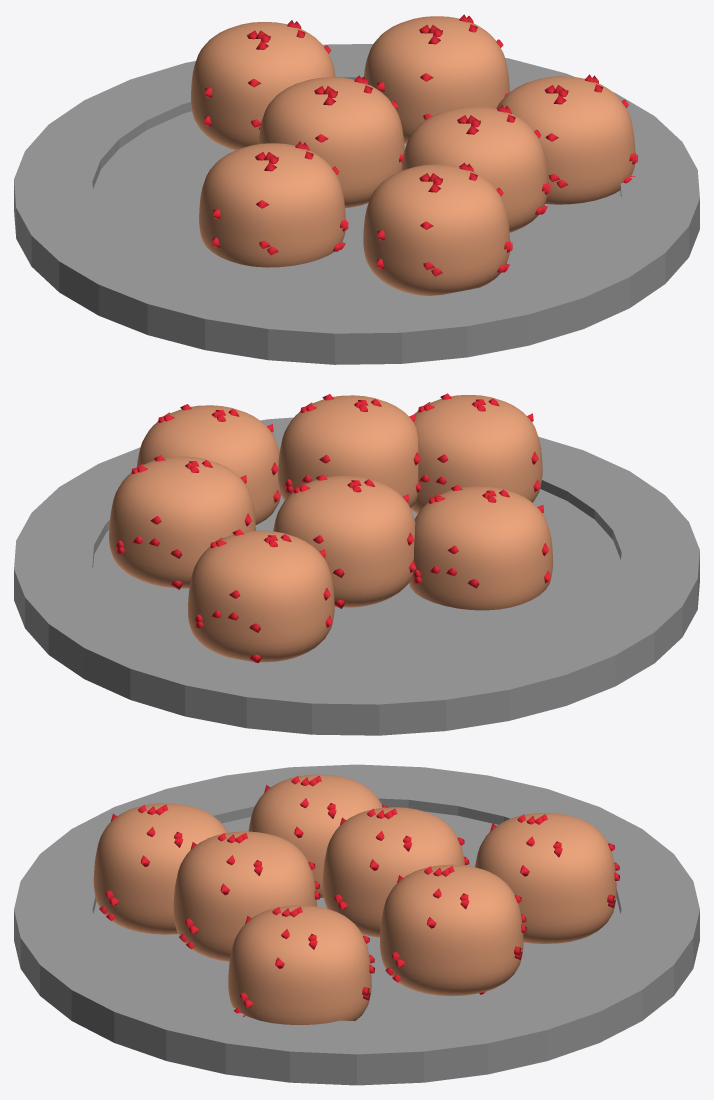
Rendered from breadWithSalami-CsL3ypAg.glb.
3 renders of one model, top to bottom at view 1: azimuth 30°, elevation 25°; view 2: azimuth 150°, elevation 25°; view 3: azimuth 270°, elevation 25°, orthographic.
Parts seen in each view (by area): view 1: Cylinder, bread3, bread4, bread6, bread7, bread, bread2, bread8; view 2: Cylinder, bread, bread4, bread6, bread2, bread3, bread8, bread7; view 3: Cylinder, bread6, bread7, bread, bread8, bread3, bread2, bread4.
Boxes of the visible parts, <box> form: Cylinder: <box>14,44,699,364</box>; bread3: <box>363,162,512,295</box>; bread4: <box>199,141,348,267</box>; bread6: <box>364,14,509,144</box>; bread7: <box>496,74,637,204</box>; bread: <box>191,20,335,150</box>; bread2: <box>258,75,404,208</box>; bread8: <box>401,104,550,232</box>; Cylinder: <box>14,416,699,735</box>; bread: <box>188,529,334,662</box>; bread4: <box>409,484,552,610</box>; bread6: <box>109,455,255,589</box>; bread2: <box>273,474,416,608</box>; bread3: <box>410,393,542,513</box>; bread8: <box>278,394,420,507</box>; bread7: <box>136,404,281,524</box>; Cylinder: <box>14,764,699,1085</box>; bread6: <box>380,864,526,996</box>; bread7: <box>228,905,374,1024</box>; bread: <box>475,813,619,943</box>; bread8: <box>173,831,320,961</box>; bread3: <box>93,803,227,934</box>; bread2: <box>322,807,469,937</box>; bread4: <box>248,774,388,897</box>.
Bounding box in the file's own units: 1.2 × 0.3072 × 1.2.
